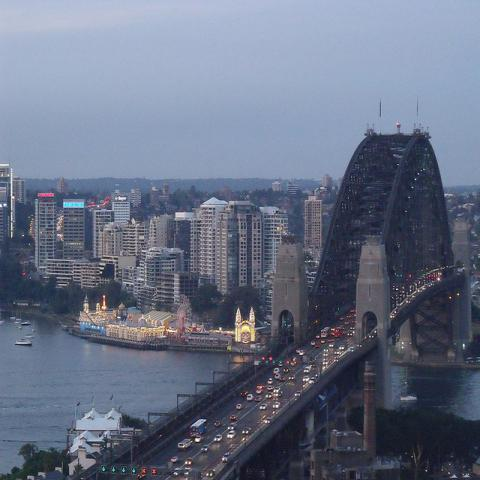bus: (191, 418, 208, 437), (320, 326, 331, 339), (334, 327, 344, 336)
car: (170, 269, 442, 479), (214, 434, 224, 445), (228, 428, 236, 440), (271, 402, 281, 411), (195, 436, 204, 443), (272, 366, 279, 374), (260, 402, 267, 410), (230, 414, 238, 421), (236, 404, 243, 410), (247, 394, 253, 401), (266, 392, 273, 398), (241, 390, 247, 396), (294, 391, 301, 396)
truck: (190, 419, 206, 438), (178, 438, 194, 450), (334, 326, 344, 338), (303, 350, 312, 363), (246, 394, 254, 402), (256, 385, 263, 394), (275, 373, 282, 380)
